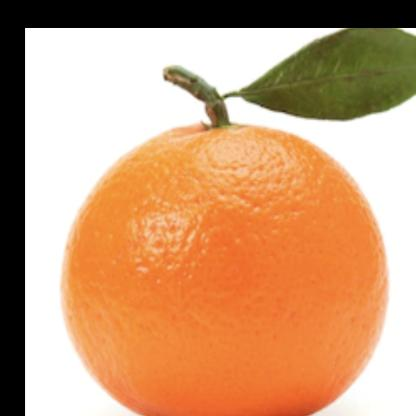rotten: (55, 108, 396, 416)
